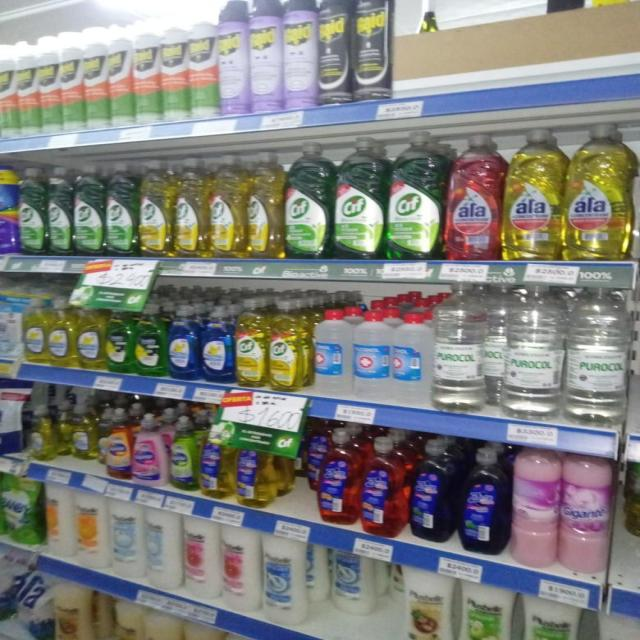ala_conc_amarillo: (564, 123, 631, 263), (504, 128, 562, 261)
ala_conc_rojo: (446, 131, 502, 262)
cif_conc_bot_amarilla: (209, 153, 246, 260), (247, 151, 283, 260), (269, 300, 307, 392), (174, 156, 208, 258), (139, 159, 173, 258), (235, 298, 267, 388)
cif_conc_botella_verde: (387, 132, 443, 261), (334, 136, 384, 261), (285, 144, 331, 260), (105, 161, 137, 257), (73, 164, 103, 256), (18, 166, 46, 256), (47, 166, 72, 256)
magistral_con_amarillo: (76, 306, 105, 371), (48, 304, 75, 368), (69, 403, 97, 462), (24, 300, 47, 365)
magistral_con_azul: (200, 304, 233, 384), (168, 304, 199, 381)
magistral_con_verde: (134, 304, 166, 377), (106, 307, 133, 374)
